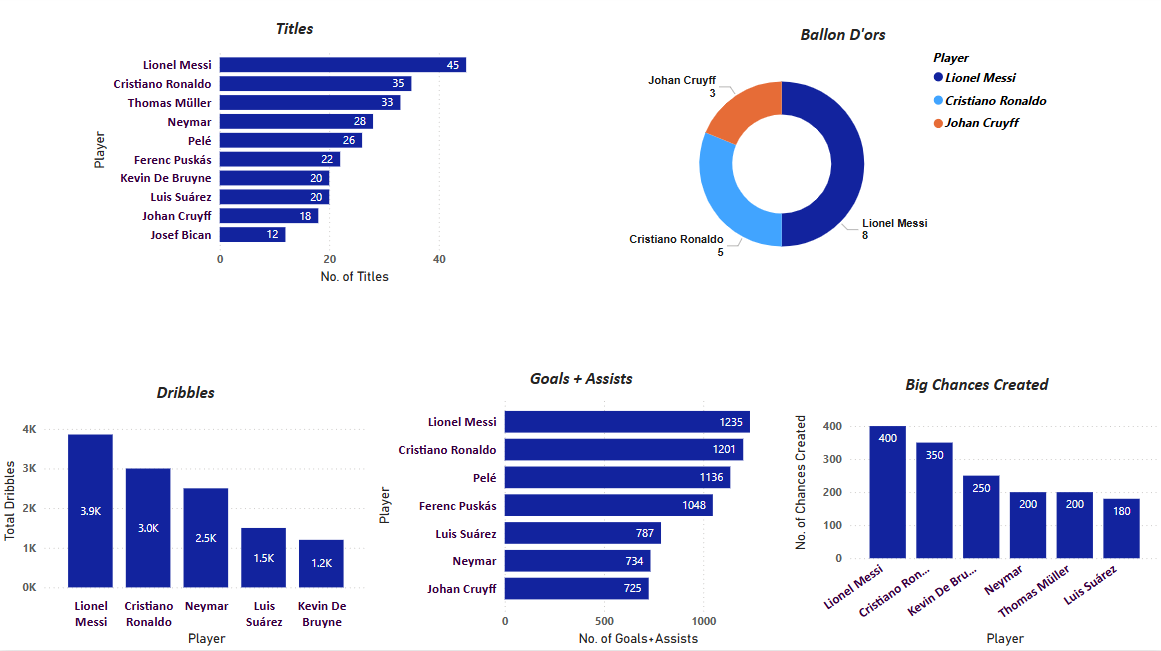

The dashboard page shown, as its layout file describes it:
{"tool":"powerbi","page":{"name":"Page 2","canvas":[1280,720],"ordinal":1},"visuals":[{"type":"barChart","title":"Titles","fields":{"Category":["Sheet1.Player"],"Y":["Sheet1.Titles"]},"box":[98.8,26.1,452.8,297.8],"z":0},{"type":"donutChart","title":"Ballon D''ors","fields":{"Category":["Sheet1.Player"],"Y":["Sheet1.Ballon d’Or"]},"box":[690.2,32.9,474.8,285.4],"z":1000},{"type":"columnChart","title":"Dribbles","fields":{"Category":["Sheet1.Player"],"Y":["Sheet1.Dribbles"]},"box":[0,425.4,411.7,295],"z":2000},{"type":"columnChart","title":"Big Chances Created","fields":{"Category":["Sheet1.Player"],"Y":["Sheet1.Big Chances"]},"box":[868.6,417.2,411.7,303.3],"z":3000},{"type":"clusteredBarChart","title":"Goals + Assists","fields":{"Category":["Sheet1.Player"],"Y":["Sheet1.G+A"]},"box":[411.7,410.3,456.9,310.1],"z":4000}]}

Visuals, with their boxes in screenshot pixels (x1, y1, x2, y2), scaled from the page's 1280x720 canvas onto the 1161x651 screenshot:
"Titles" barChart: x1=90 y1=24 x2=500 y2=293
"Ballon D''ors" donutChart: x1=626 y1=30 x2=1057 y2=288
"Dribbles" columnChart: x1=0 y1=385 x2=373 y2=650
"Big Chances Created" columnChart: x1=788 y1=377 x2=1160 y2=650
"Goals + Assists" clusteredBarChart: x1=373 y1=371 x2=788 y2=650
